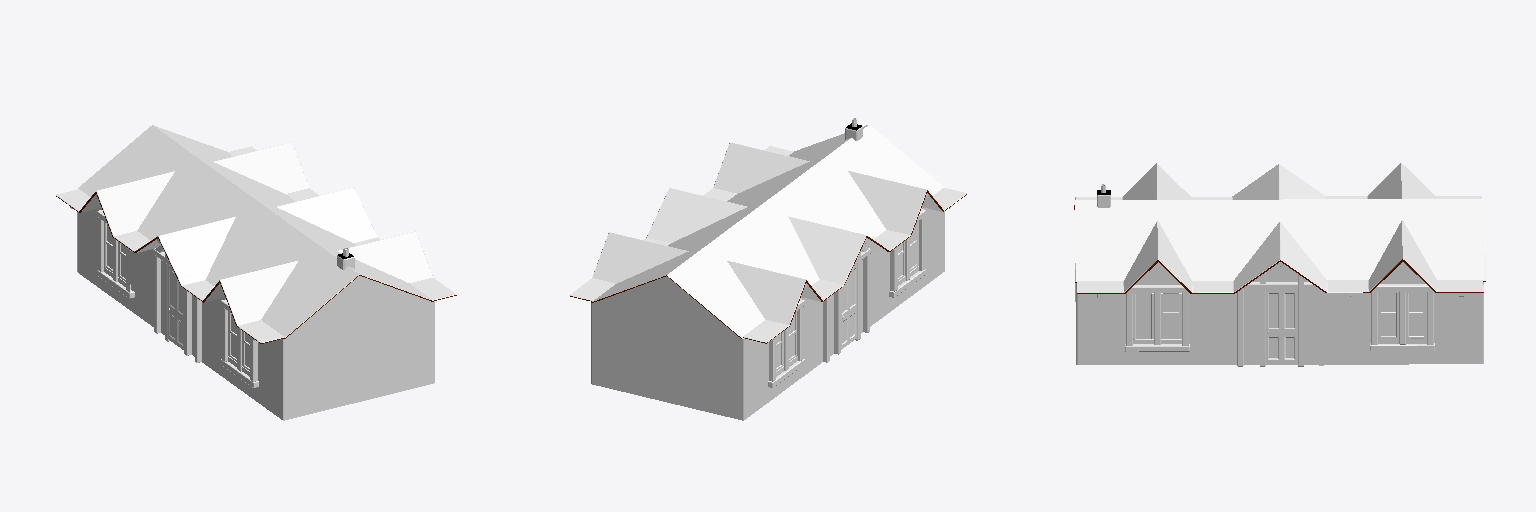
File: casa3.obj
3 renders of one model, left to right at view 1: azimuth 30°, elevation 25°; view 2: azimuth 150°, elevation 25°; view 3: azimuth 270°, elevation 25°, orthographic.
Visible parts, largest first — view 1: main_wall_Malla.106, main_roof_Malla.108, canopy_roof_Malla.107, polySurface8_Malla.174, polySurface1_Malla.167; view 2: main_wall_Malla.106, main_roof_Malla.108, canopy_roof_Malla.107, polySurface8_Malla.174, polySurface7_Malla.173; view 3: main_roof_Malla.108, main_wall_Malla.106, canopy_roof_Malla.107, polySurface68_Malla.183, polySurface66_Malla.181, polySurface61_Malla.176, polySurface64_Malla.179.
Boxes of the visible parts, box(x1,y1,x2,y2) form: main_wall_Malla.106: box(77, 208, 434, 420); main_roof_Malla.108: box(78, 125, 433, 338); canopy_roof_Malla.107: box(56, 142, 456, 343); polySurface8_Malla.174: box(168, 265, 183, 349); polySurface1_Malla.167: box(154, 255, 160, 333); main_wall_Malla.106: box(591, 207, 944, 420); main_roof_Malla.108: box(591, 124, 944, 338); canopy_roof_Malla.107: box(569, 142, 966, 343); polySurface8_Malla.174: box(841, 264, 856, 349); polySurface7_Malla.173: box(863, 254, 869, 332); main_roof_Malla.108: box(1074, 199, 1485, 282); main_wall_Malla.106: box(1075, 264, 1483, 364); canopy_roof_Malla.107: box(1075, 163, 1483, 293); polySurface68_Malla.183: box(1266, 289, 1297, 363); polySurface66_Malla.181: box(1298, 274, 1303, 366); polySurface61_Malla.176: box(1237, 289, 1243, 366); polySurface64_Malla.179: box(1260, 272, 1265, 366).
Bounding box in the file's own units: 13.57 × 9.33 × 24.29.